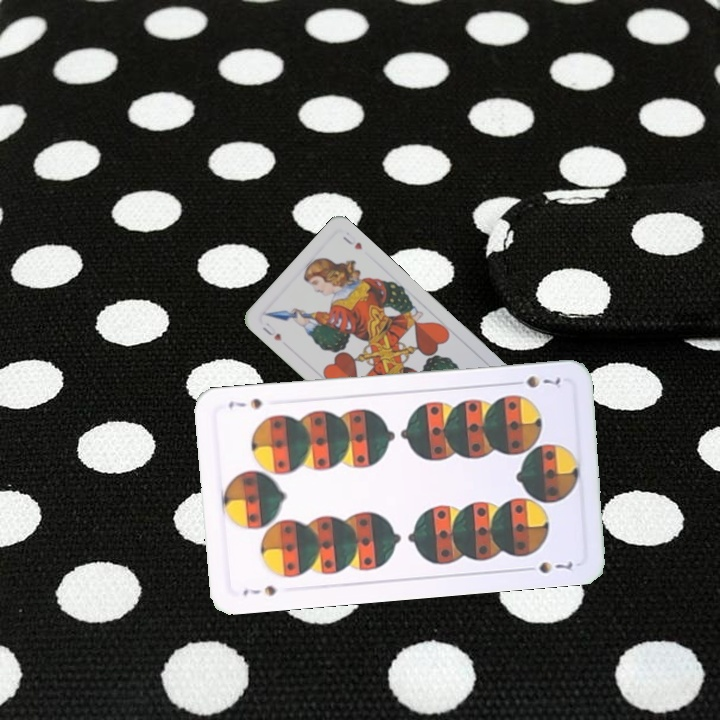HU: (258, 319, 284, 344)
S7: (507, 372, 563, 391), (239, 581, 278, 598)
